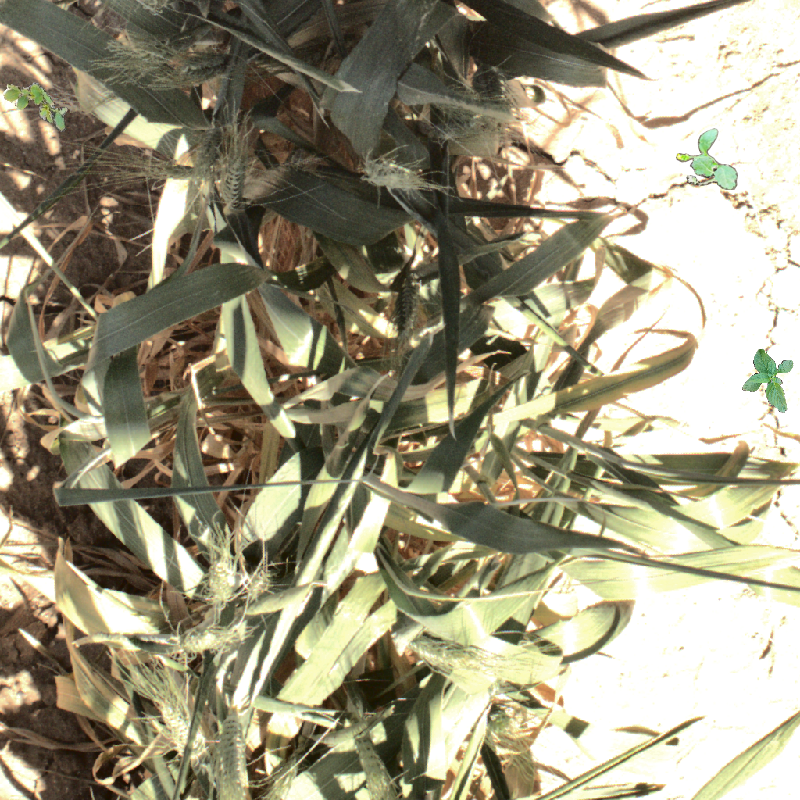spikelet: (395, 640, 487, 686), (351, 711, 394, 799), (126, 45, 222, 83), (210, 712, 251, 799), (438, 82, 519, 124), (158, 623, 251, 658), (362, 155, 424, 194), (158, 700, 197, 758), (133, 156, 210, 183), (215, 151, 247, 212), (206, 556, 239, 602)
weed: (738, 346, 800, 415), (676, 128, 738, 190), (1, 80, 66, 134)
